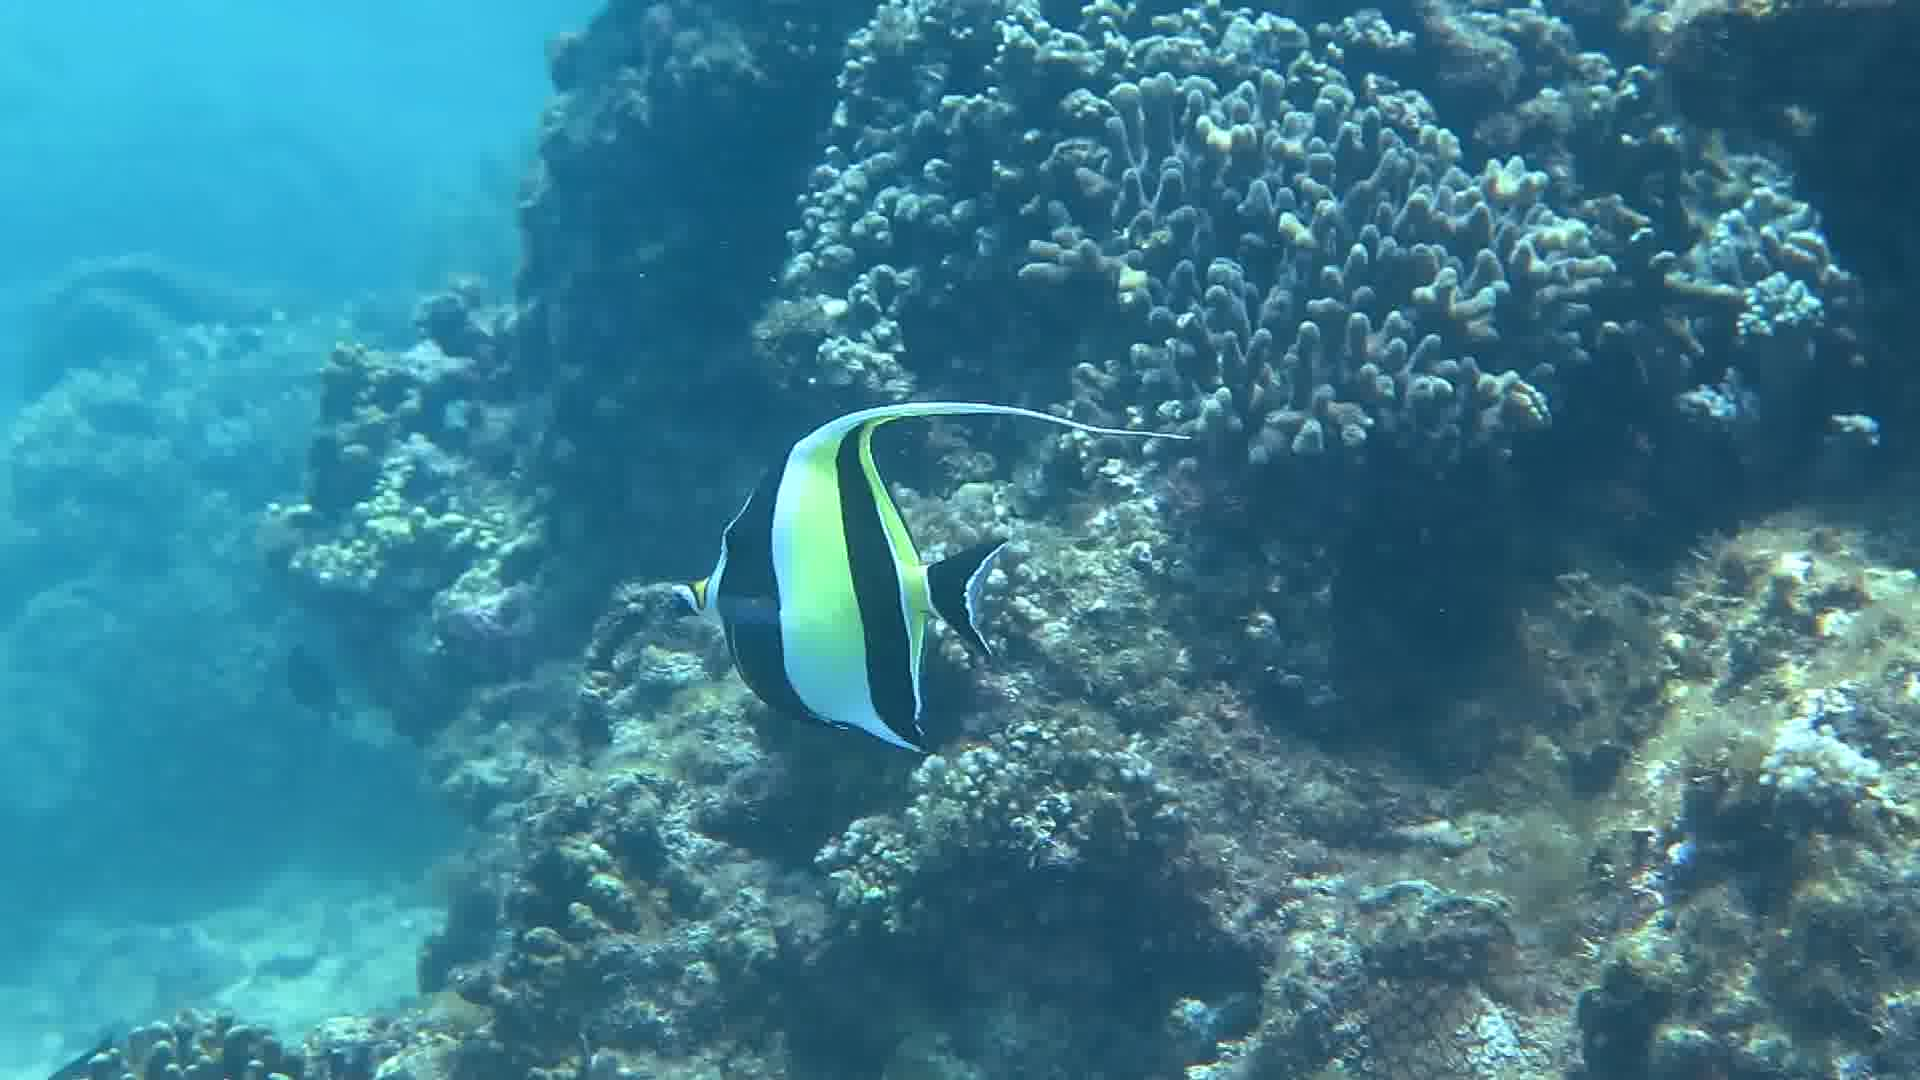Zanclus cornutus: (669, 368, 1026, 789)
